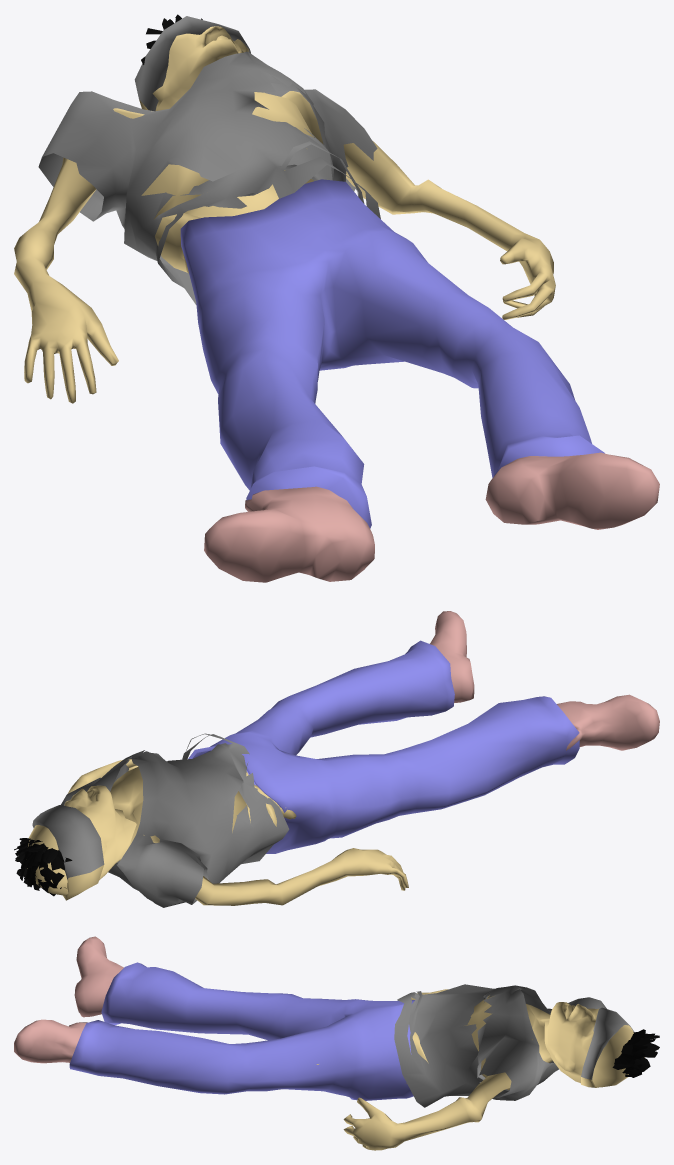
The model's file is Cadavre_02.fbx.
The picture shows the model from 3 angles, top to bottom: view 1: azimuth 30°, elevation 25°; view 2: azimuth 150°, elevation 25°; view 3: azimuth 270°, elevation 25°; orthographic projection. The views are drawn at different scales.
Visible parts, largest first — view 1: Cadavre_02; view 2: Cadavre_02; view 3: Cadavre_02.
Boxes of the visible parts, left/top/right/bottom form: Cadavre_02: left=14, top=14, right=659, bottom=582; Cadavre_02: left=14, top=611, right=659, bottom=907; Cadavre_02: left=14, top=936, right=659, bottom=1150.
Size of the model in its own units: 103 by 33.09 by 166.
